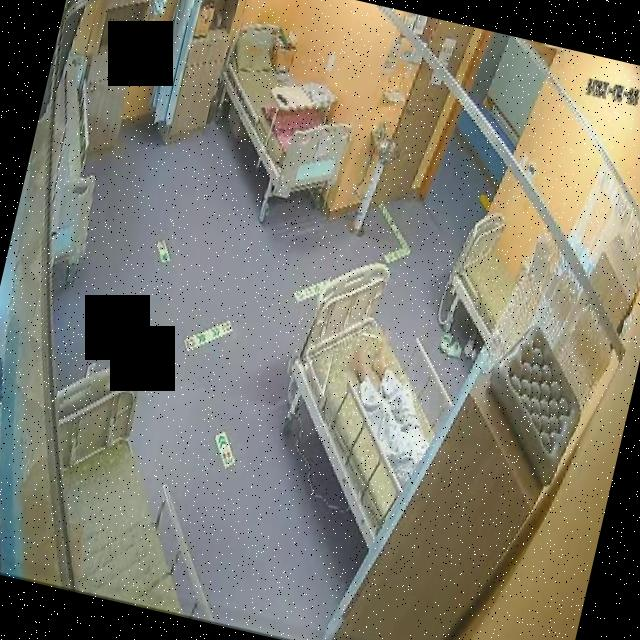bed: (12, 352, 264, 624), (255, 251, 470, 554), (192, 14, 372, 210), (438, 206, 530, 348)
lie: (322, 322, 451, 489)
patient: (320, 325, 450, 488)
